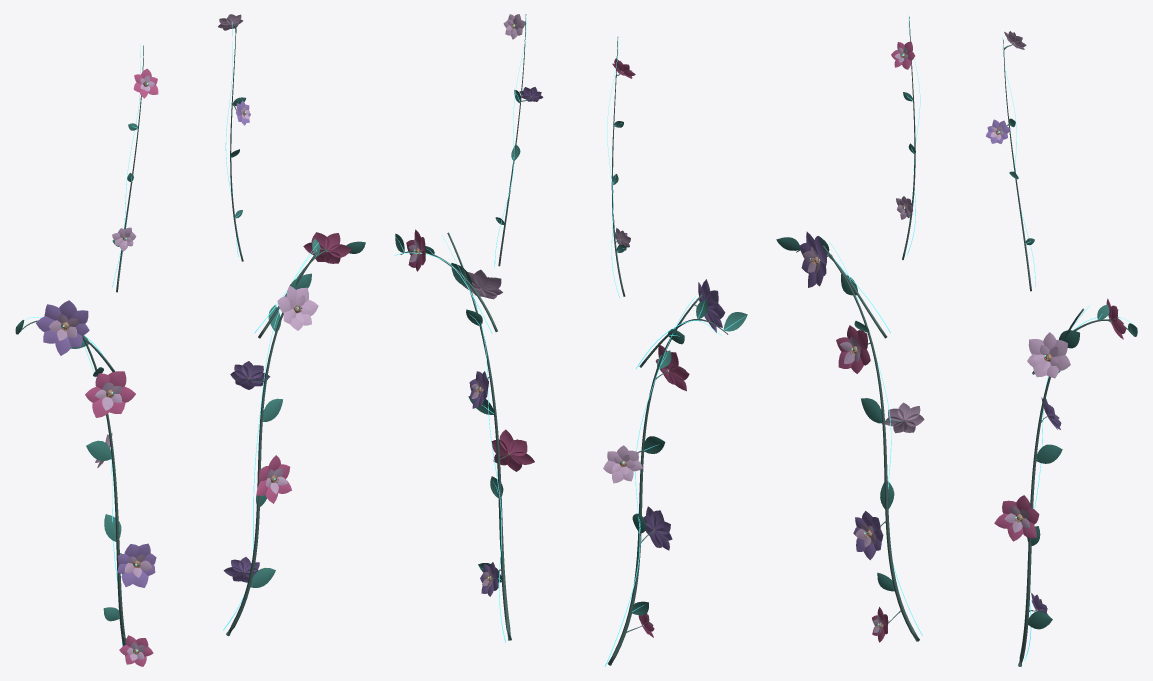
The model's file is higgsfield-botanical.glb.
3 renders of one model, left to right at view 1: azimuth 30°, elevation 25°; view 2: azimuth 150°, elevation 25°; view 3: azimuth 330°, elevation 25°, orthographic. The views are drawn at different scales.
Parts seen in each view (by area): view 1: Botanical_PetalPearl, Botanical_PetalLilac, Botanical_PetalRose, Botanical_Stem, Botanical_LeafTeal, Botanical_Filament; view 2: Botanical_Stem, Botanical_LeafTeal, Botanical_PetalPearl, Botanical_PetalLilac, Botanical_PetalRose, Botanical_Filament; view 3: Botanical_PetalPearl, Botanical_Stem, Botanical_LeafTeal, Botanical_PetalRose, Botanical_PetalLilac, Botanical_Filament.
Part boxes in pixels (x1,y1,x2,y2): Botanical_PetalPearl: (49,14,318,660); Botanical_PetalLilac: (36,100,270,587); Botanical_PetalRose: (85,68,351,666); Botanical_Stem: (17,23,327,657); Botanical_LeafTeal: (15,97,365,621); Botanical_Filament: (15,21,318,654); Botanical_Stem: (400,14,728,665); Botanical_LeafTeal: (395,90,747,615); Botanical_PetalPearl: (408,14,685,626); Botanical_PetalLilac: (469,87,725,596); Botanical_PetalRose: (406,58,689,637); Botanical_Filament: (394,17,745,666); Botanical_PetalPearl: (803,31,1123,634); Botanical_Stem: (796,16,1130,666); Botanical_LeafTeal: (776,92,1137,629); Botanical_PetalRose: (836,41,1126,642); Botanical_PetalLilac: (799,119,1061,624); Botanical_Filament: (810,14,1138,660).
Bounding box in the file's own units: 1.9 × 3.24 × 0.4216.
